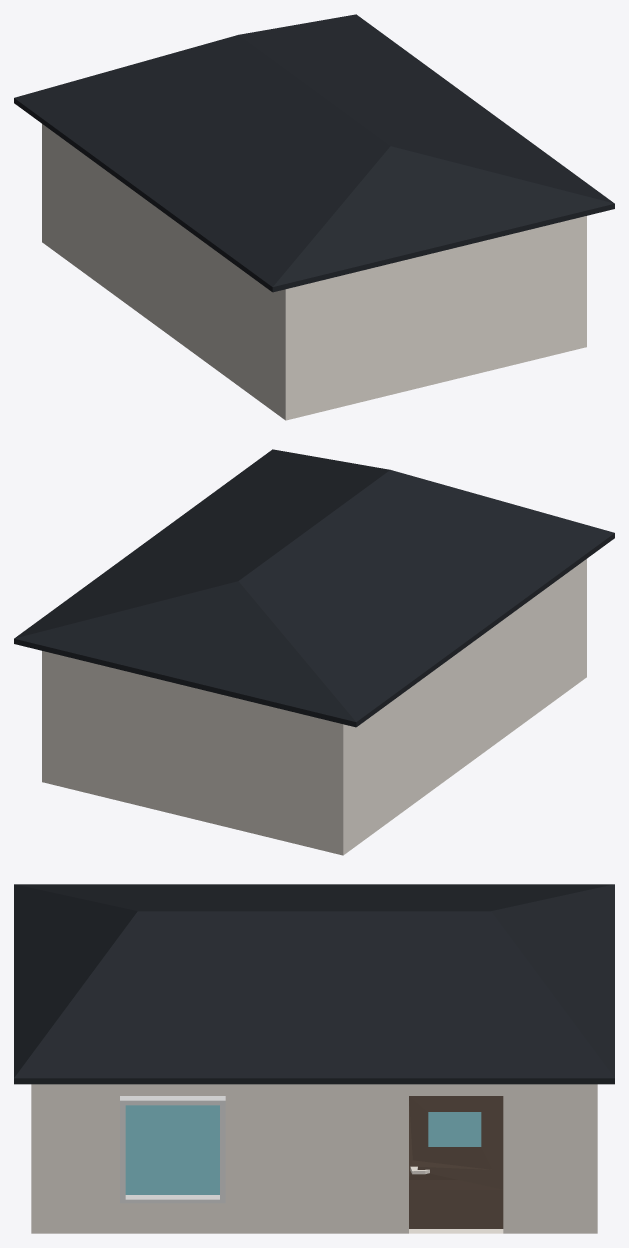
Rendered from simple_house.fbx.
3 views of the same model, one above another, from view 1: azimuth 30°, elevation 25°; view 2: azimuth 150°, elevation 25°; view 3: azimuth 270°, elevation 25° (orthographic). The views are drawn at different scales.
Parts seen in each view (by area): view 1: Cube; view 2: Cube; view 3: Cube.
Part boxes in pixels (bbox=[...]): Cube: bbox=[14, 14, 614, 420]; Cube: bbox=[14, 449, 614, 855]; Cube: bbox=[14, 884, 614, 1233].
Size of the model in its own units: 482 by 275 by 631.
